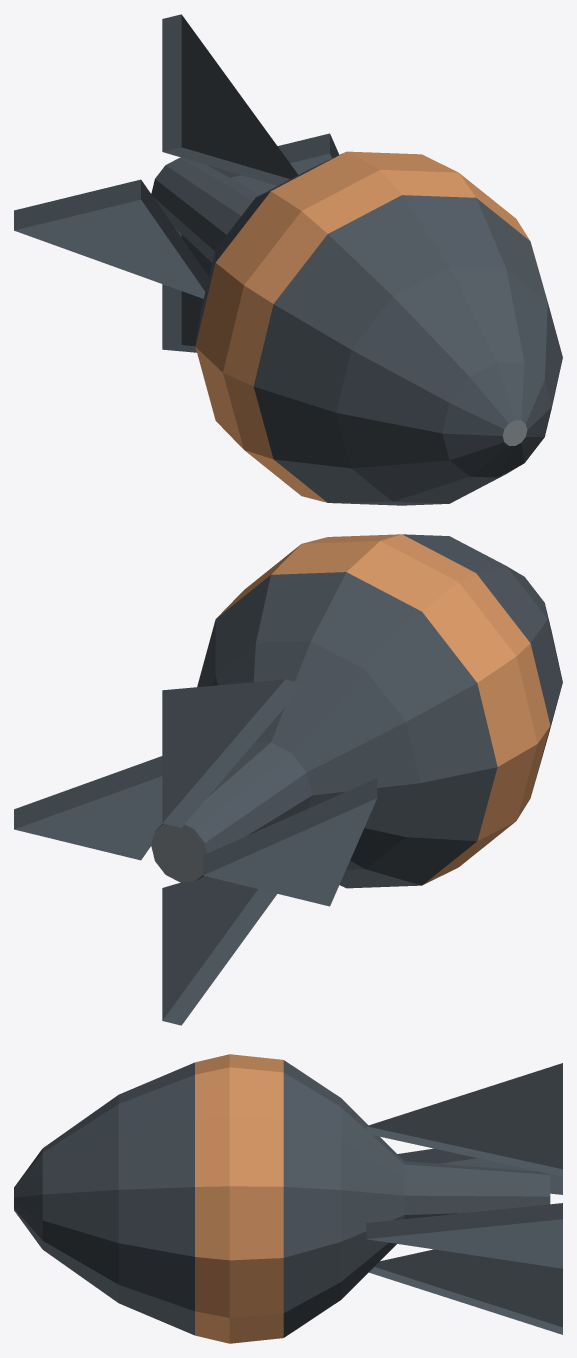
Rendered from shell-mortar.glb.
3 renders of one model, top to bottom at view 1: azimuth 30°, elevation 25°; view 2: azimuth 150°, elevation 25°; view 3: azimuth 270°, elevation 25°, orthographic. The views are drawn at different scales.
Parts seen in each view (by area): view 1: shell-mortar; view 2: shell-mortar; view 3: shell-mortar.
Part boxes in pixels (x1,y1,x2,y2): shell-mortar: (14,14,562,505); shell-mortar: (14,534,562,1025); shell-mortar: (14,1054,562,1343).
Bounding box in the file's own units: 0.46 × 0.46 × 0.865.
